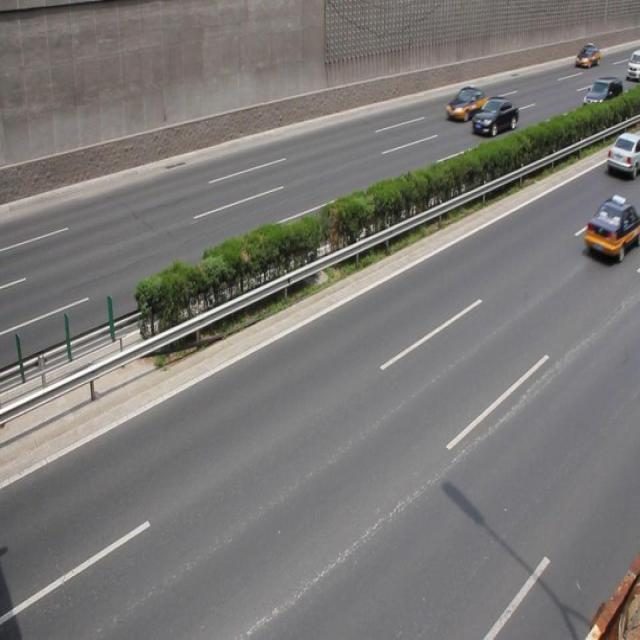car: (582, 194, 640, 261), (470, 95, 518, 138), (580, 74, 621, 114), (444, 84, 487, 122), (605, 130, 640, 176)
